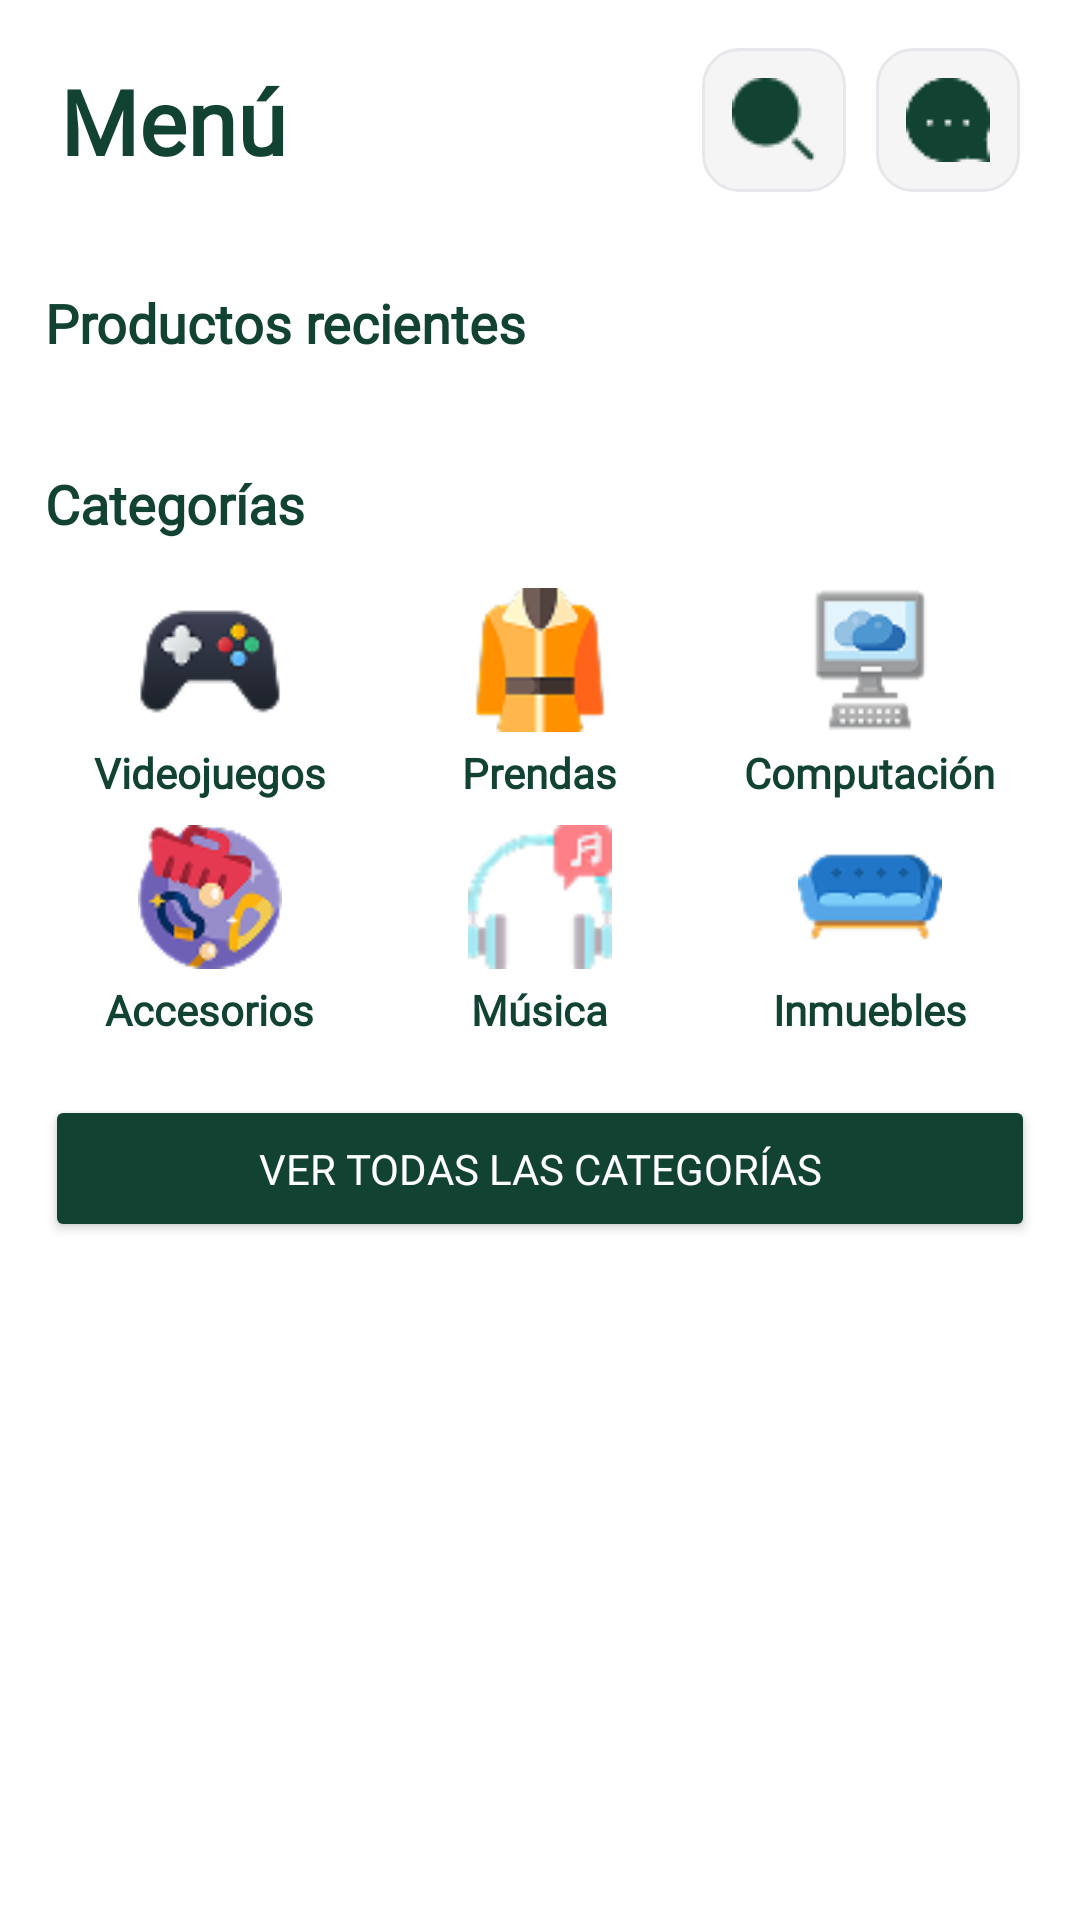

Screen size 1080 × 1920. Icon name, then its center in pixels as [x,y]:
Buscar: [774,120]
Chat: [948,120]
